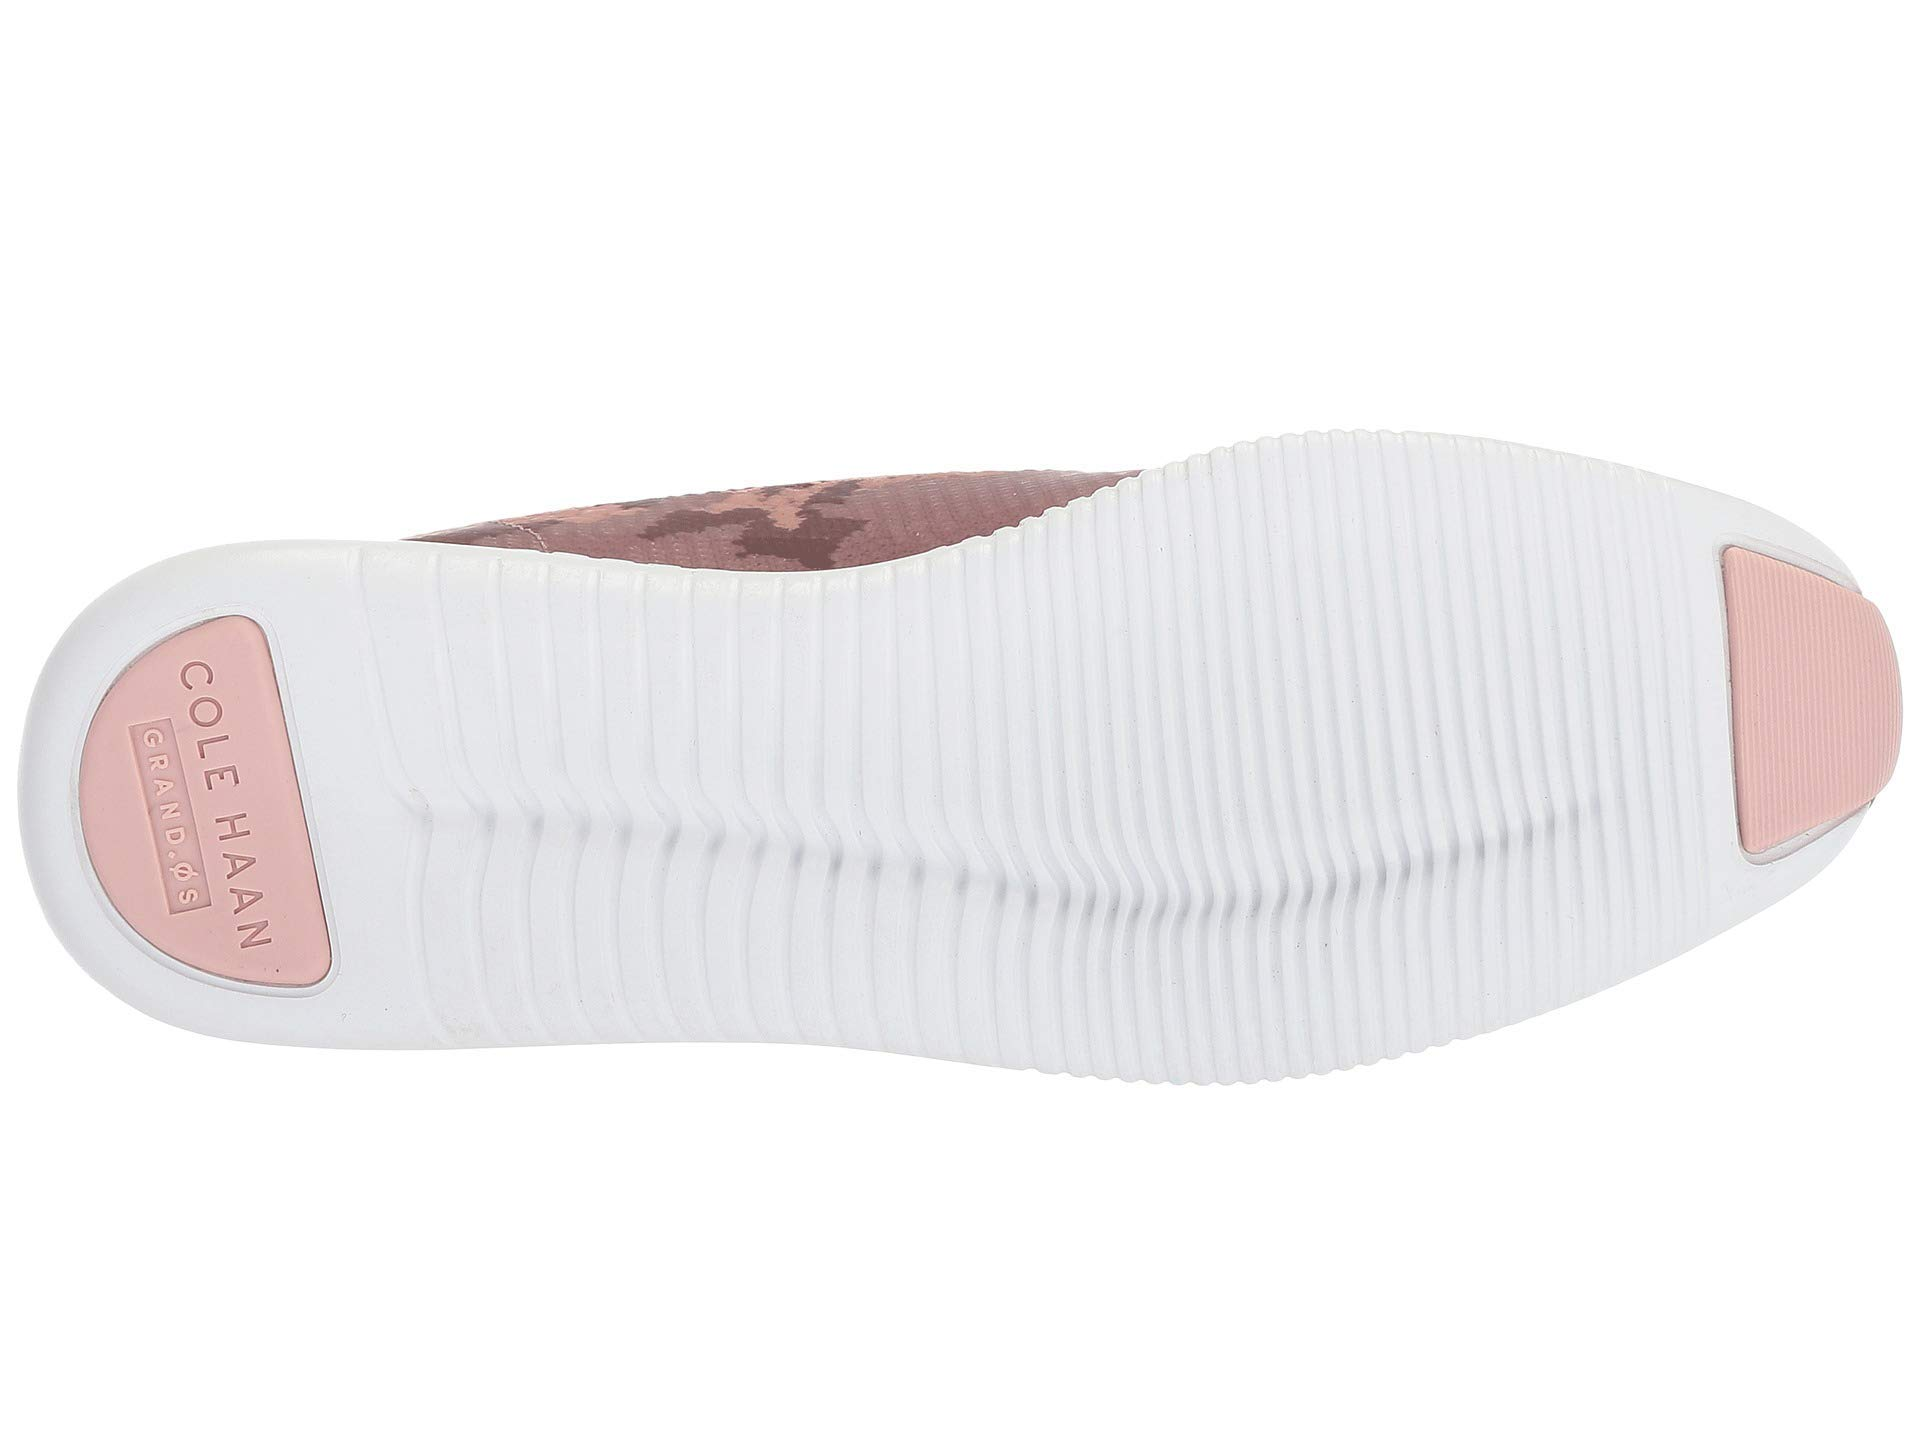circle: (89, 616, 463, 1003)
line: (738, 638, 1160, 1056), (1194, 575, 1590, 997), (89, 616, 463, 1003), (1739, 610, 1878, 756)
quad: (89, 616, 463, 1003)
text: (89, 616, 463, 1003)
